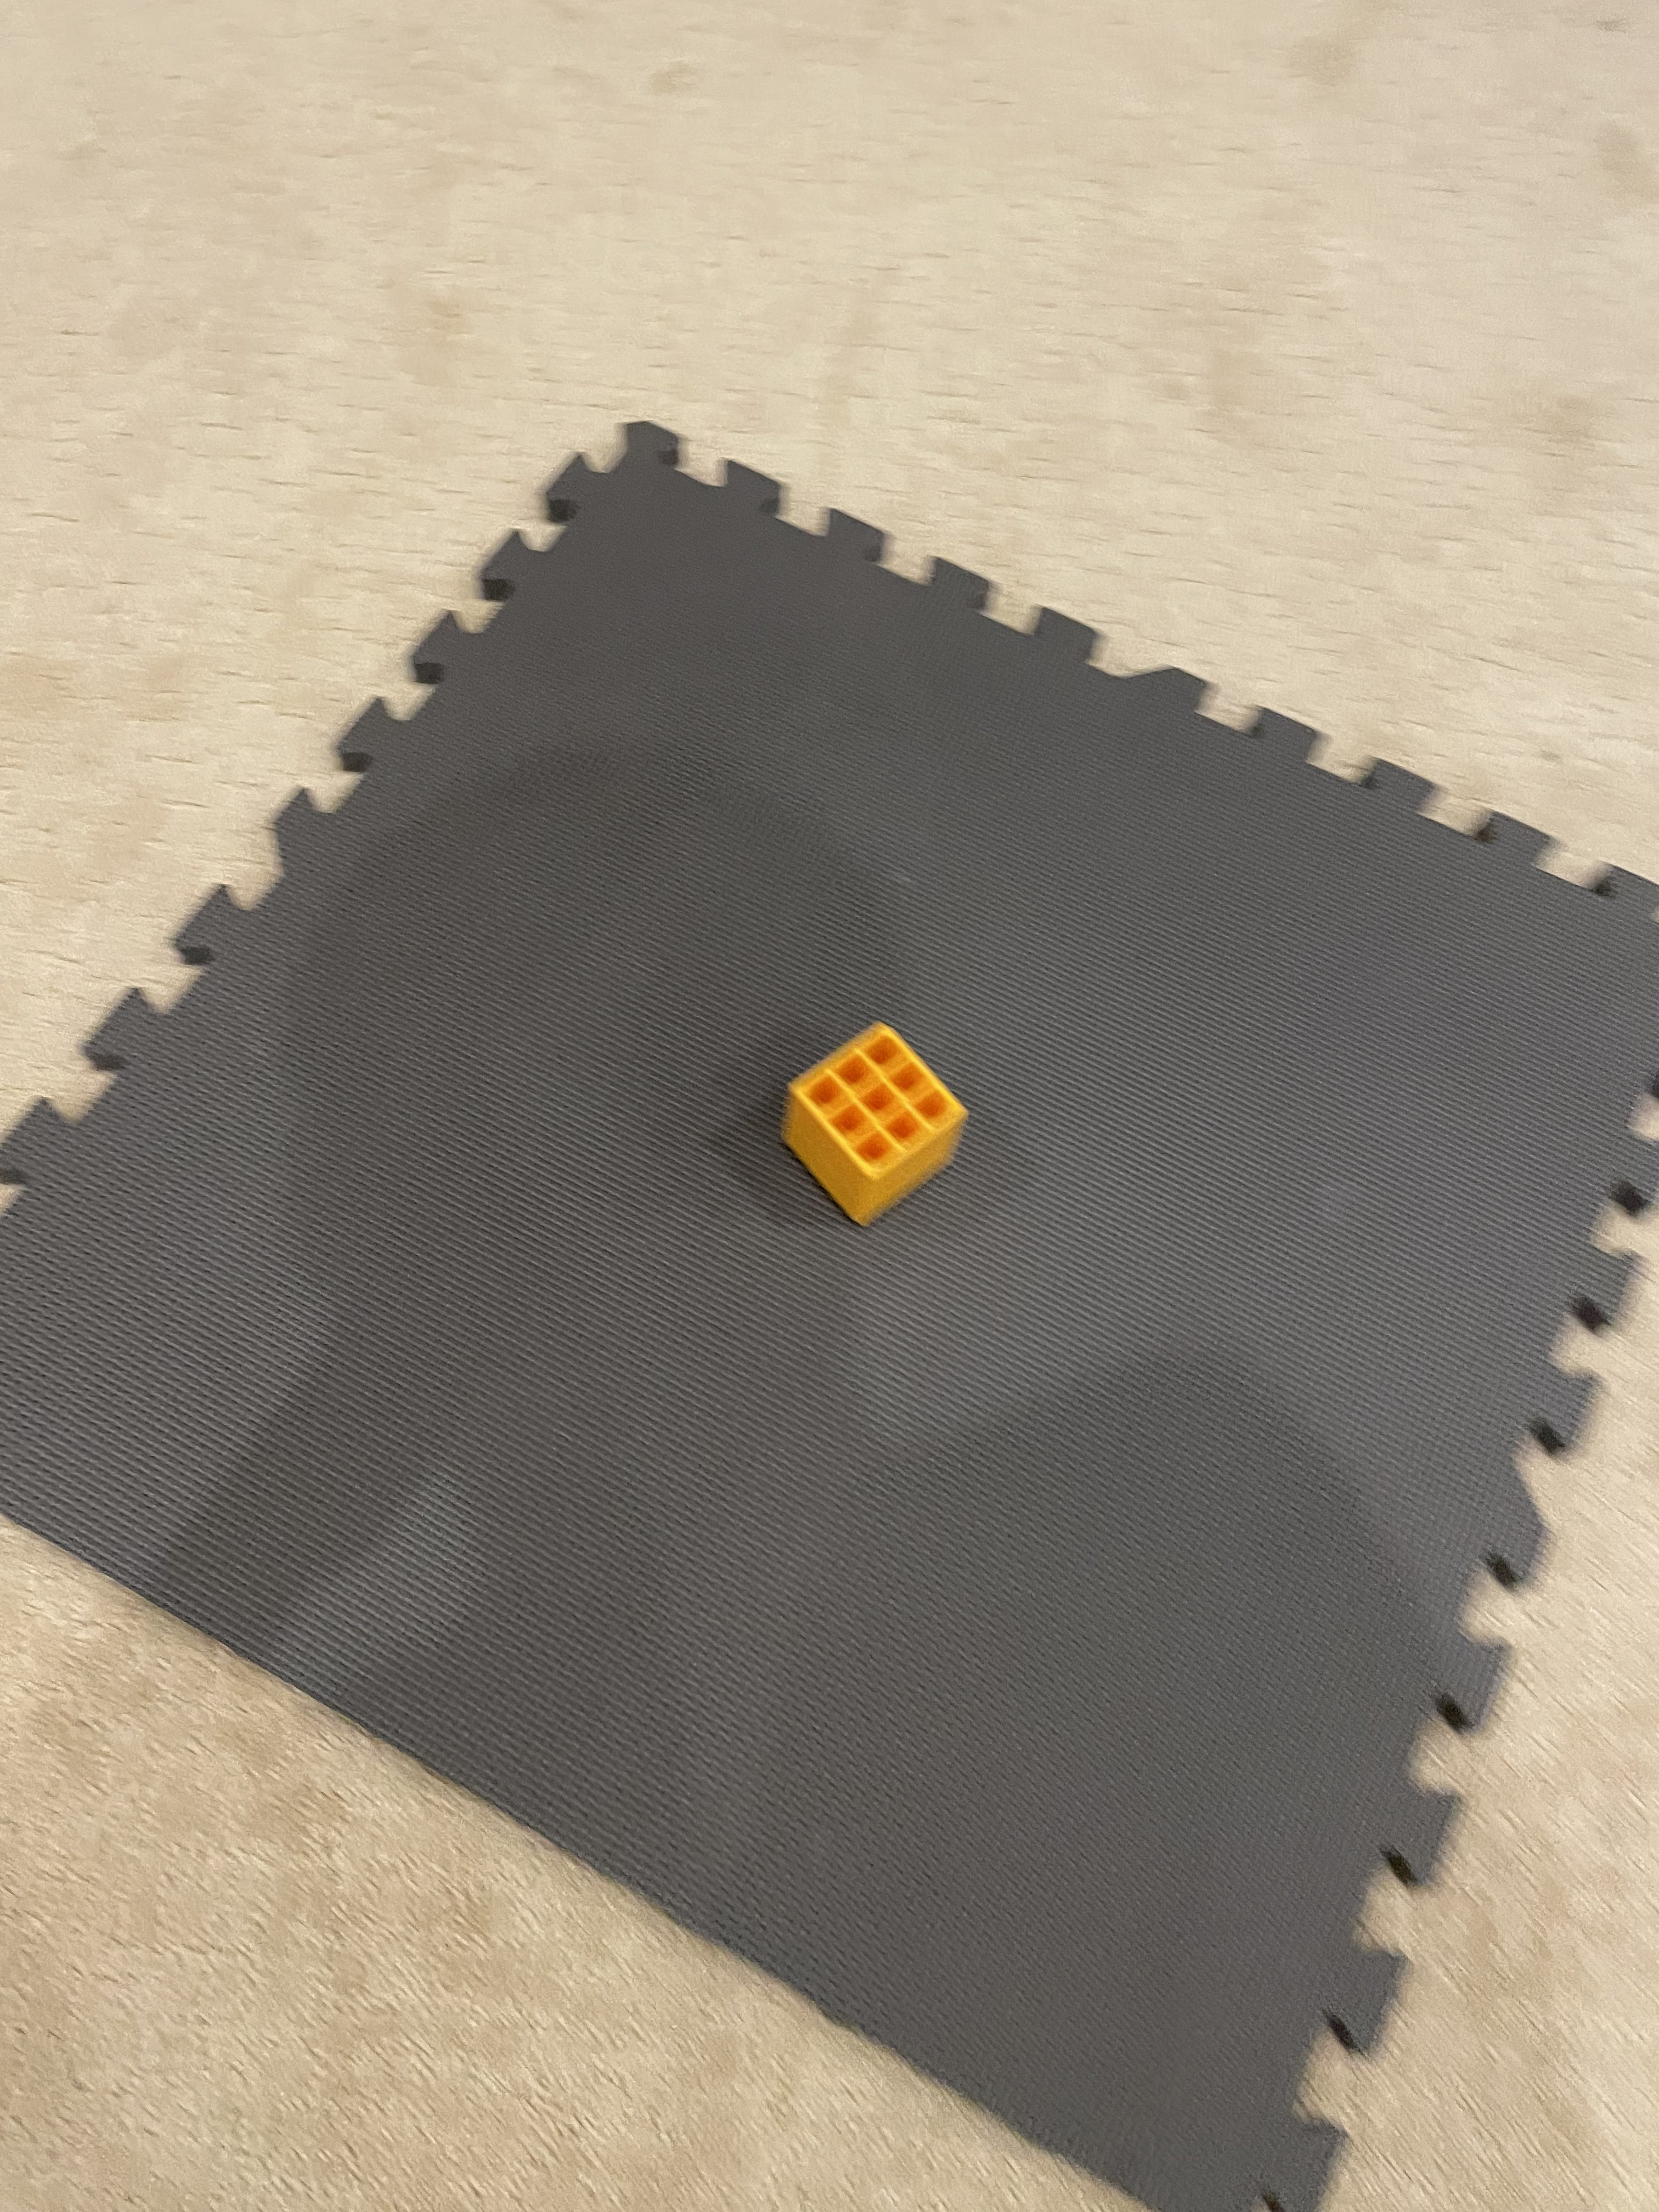cube: (748, 967, 1016, 1270)
